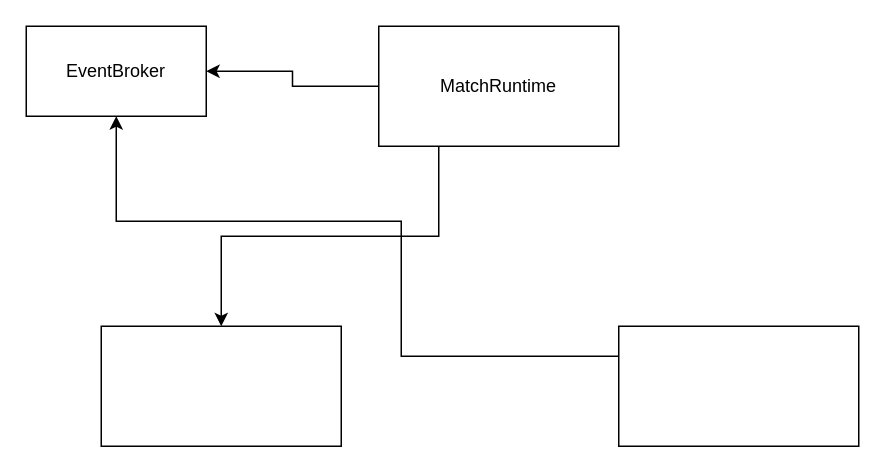
This 885x473 diagram has some shape labels left out. Here are the shapes that lost their labels. From the top down, the centre of each, then its label:
point (220, 385): Match
point (738, 385): RoundGameLoop
